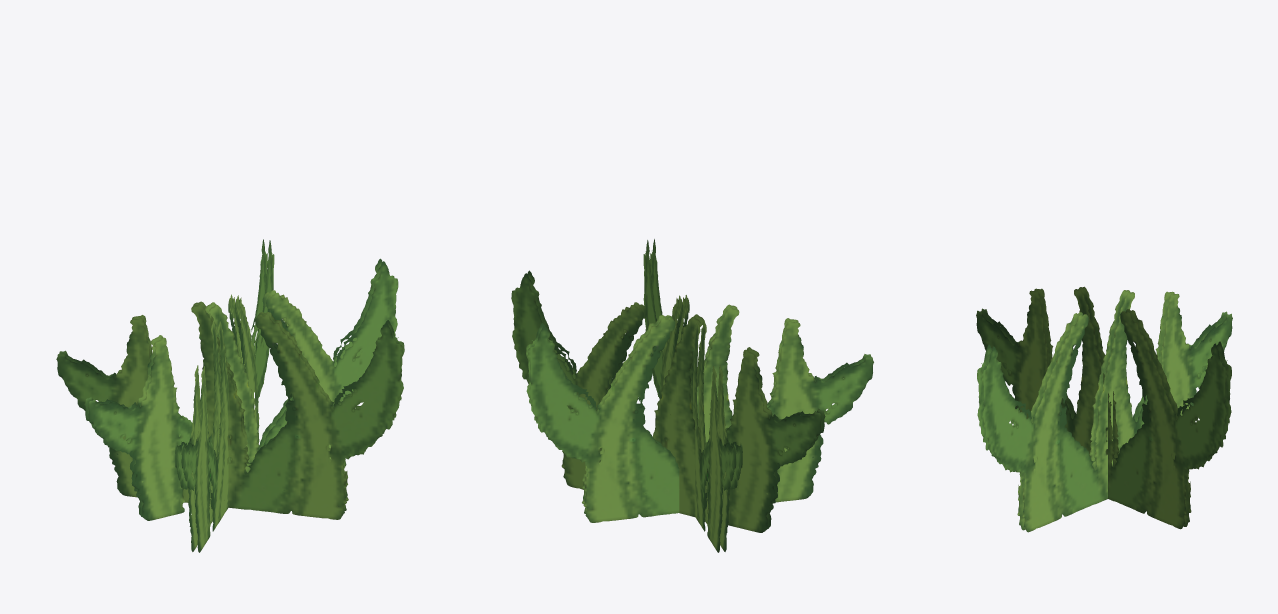
File: ALgae_3.obj
The picture shows the model from 3 angles, left to right: view 1: azimuth 30°, elevation 25°; view 2: azimuth 150°, elevation 25°; view 3: azimuth 270°, elevation 25°; orthographic projection.
Visible parts, largest first — view 1: polySurface18; view 2: polySurface18; view 3: polySurface18.
Boxes of the visible parts, x1=… form: polySurface18: x1=56, y1=239, x2=404, y2=552; polySurface18: x1=511, y1=239, x2=873, y2=552; polySurface18: x1=976, y1=286, x2=1232, y2=532.
Bounding box in the file's own units: 4.48 × 4.48 × 3.23.
